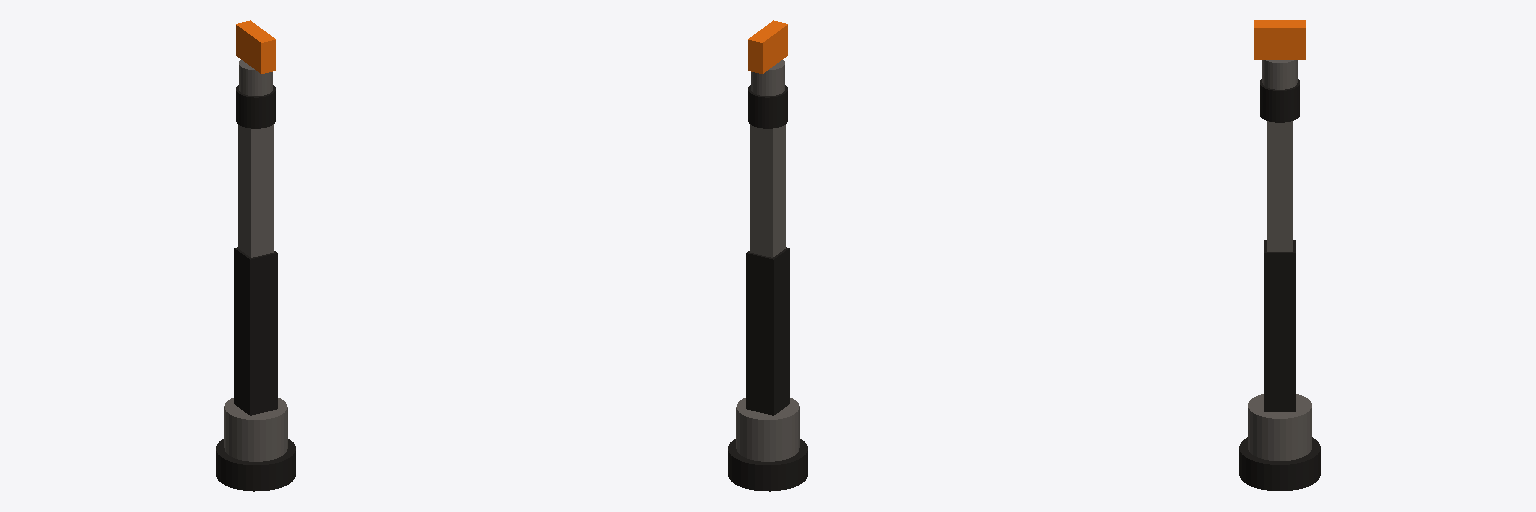
URDF robot description (sxd_arm):
<?xml version="1.0"?>
<!--
  sxd_arm: the reference 6-DOF manipulator the kiosk retargets UMI motion
  onto. Primitive geometry only (no meshes) so urdf-loader renders it with
  zero asset dependencies; swap this file for the customer's real URDF to
  retarget against their robot. Reach is ~0.85 m from the shoulder.
-->
<robot name="sxd_arm">
  <material name="graphite"><color rgba="0.16 0.15 0.14 1.0"/></material>
  <material name="steel"><color rgba="0.42 0.40 0.38 1.0"/></material>
  <material name="amber"><color rgba="0.96 0.48 0.10 1.0"/></material>

  <link name="base_link">
    <visual>
      <origin xyz="0 0 0.025"/>
      <geometry><cylinder radius="0.07" length="0.05"/></geometry>
      <material name="graphite"/>
    </visual>
  </link>

  <joint name="joint_1" type="revolute">
    <parent link="base_link"/>
    <child link="shoulder_link"/>
    <origin xyz="0 0 0.05"/>
    <axis xyz="0 0 1"/>
    <limit lower="-3.1416" upper="3.1416" effort="150" velocity="3.1"/>
  </joint>

  <link name="shoulder_link">
    <visual>
      <origin xyz="0 0 0.04"/>
      <geometry><cylinder radius="0.055" length="0.08"/></geometry>
      <material name="steel"/>
    </visual>
  </link>

  <joint name="joint_2" type="revolute">
    <parent link="shoulder_link"/>
    <child link="upper_arm_link"/>
    <origin xyz="0 0 0.08"/>
    <axis xyz="0 1 0"/>
    <limit lower="-2.2" upper="2.2" effort="150" velocity="3.1"/>
  </joint>

  <link name="upper_arm_link">
    <visual>
      <origin xyz="0 0 0.15"/>
      <geometry><box size="0.055 0.055 0.30"/></geometry>
      <material name="graphite"/>
    </visual>
  </link>

  <joint name="joint_3" type="revolute">
    <parent link="upper_arm_link"/>
    <child link="forearm_link"/>
    <origin xyz="0 0 0.30"/>
    <axis xyz="0 1 0"/>
    <limit lower="-2.6" upper="2.6" effort="80" velocity="3.1"/>
  </joint>

  <link name="forearm_link">
    <visual>
      <origin xyz="0 0 0.125"/>
      <geometry><box size="0.045 0.045 0.25"/></geometry>
      <material name="steel"/>
    </visual>
  </link>

  <joint name="joint_4" type="revolute">
    <parent link="forearm_link"/>
    <child link="wrist_1_link"/>
    <origin xyz="0 0 0.25"/>
    <axis xyz="0 1 0"/>
    <limit lower="-3.1416" upper="3.1416" effort="30" velocity="3.9"/>
  </joint>

  <link name="wrist_1_link">
    <visual>
      <origin xyz="0 0 0.03"/>
      <geometry><cylinder radius="0.035" length="0.06"/></geometry>
      <material name="graphite"/>
    </visual>
  </link>

  <joint name="joint_5" type="revolute">
    <parent link="wrist_1_link"/>
    <child link="wrist_2_link"/>
    <origin xyz="0 0 0.06"/>
    <axis xyz="0 0 1"/>
    <limit lower="-3.1416" upper="3.1416" effort="30" velocity="3.9"/>
  </joint>

  <link name="wrist_2_link">
    <visual>
      <origin xyz="0 0 0.025"/>
      <geometry><cylinder radius="0.03" length="0.05"/></geometry>
      <material name="steel"/>
    </visual>
  </link>

  <joint name="joint_6" type="revolute">
    <parent link="wrist_2_link"/>
    <child link="gripper_link"/>
    <origin xyz="0 0 0.05"/>
    <axis xyz="0 1 0"/>
    <limit lower="-3.1416" upper="3.1416" effort="15" velocity="3.9"/>
  </joint>

  <link name="gripper_link">
    <visual>
      <origin xyz="0 0 0.03"/>
      <geometry><box size="0.03 0.09 0.06"/></geometry>
      <material name="amber"/>
    </visual>
  </link>

  <joint name="tool_joint" type="fixed">
    <parent link="gripper_link"/>
    <child link="tool0"/>
    <origin xyz="0 0 0.07"/>
  </joint>

  <link name="tool0"/>
</robot>

--- Facts derived from the render (not from the file) ---
The picture shows the robot from 3 angles, left to right: view 1: azimuth 30°, elevation 25°; view 2: azimuth 150°, elevation 25°; view 3: azimuth 270°, elevation 25°; orthographic projection.
Model sxd_arm with 8 links and 7 joints (6 revolute, 1 fixed), rooted at base_link, posed every joint at zero.
Links seen in each view (by area): view 1: upper_arm_link, forearm_link, shoulder_link, base_link, gripper_link, wrist_1_link, wrist_2_link; view 2: upper_arm_link, forearm_link, shoulder_link, base_link, gripper_link, wrist_1_link, wrist_2_link; view 3: upper_arm_link, shoulder_link, forearm_link, base_link, gripper_link, wrist_1_link, wrist_2_link.
Boxes of the visible links, x1,y1,x2,y2 form: upper_arm_link: (234,247,277,415); forearm_link: (238,124,273,257); shoulder_link: (224,398,287,461); base_link: (216,439,295,491); gripper_link: (236,20,275,73); wrist_1_link: (236,85,275,128); wrist_2_link: (239,60,272,95); upper_arm_link: (746,247,789,415); forearm_link: (750,124,785,257); shoulder_link: (736,398,799,461); base_link: (728,439,807,491); gripper_link: (748,20,787,73); wrist_1_link: (748,85,787,128); wrist_2_link: (751,60,784,95); upper_arm_link: (1264,240,1295,411); shoulder_link: (1248,394,1311,460); forearm_link: (1267,121,1292,251); base_link: (1239,437,1320,490); gripper_link: (1254,20,1305,59); wrist_1_link: (1260,79,1299,122); wrist_2_link: (1262,60,1297,89).
Size in the robot's own frame: 0.14 by 0.14 by 0.85 metres.
Geometry: primitives only (box / cylinder / sphere), no mesh files.
